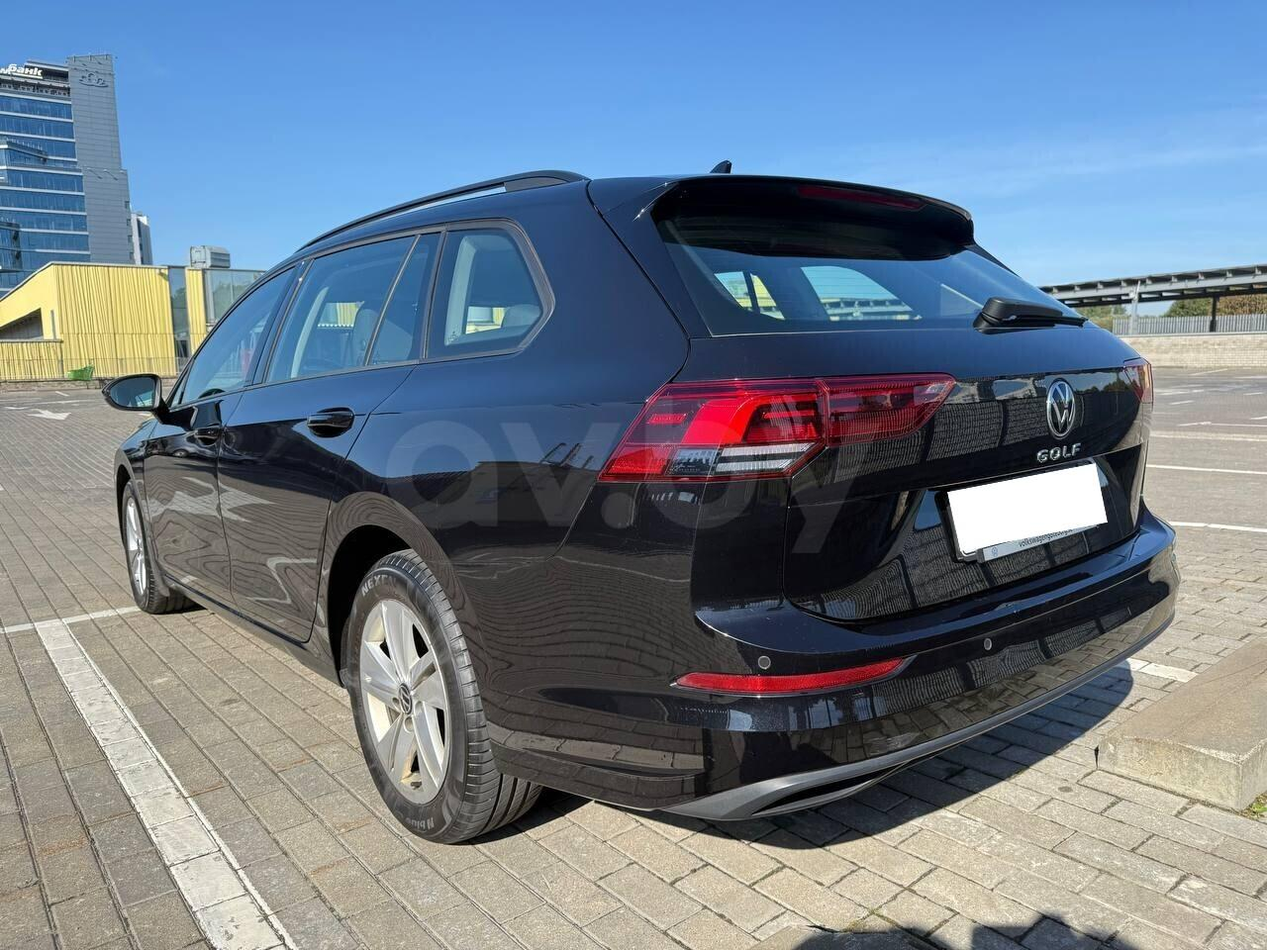Golf_2019: (107, 169, 1185, 840)
